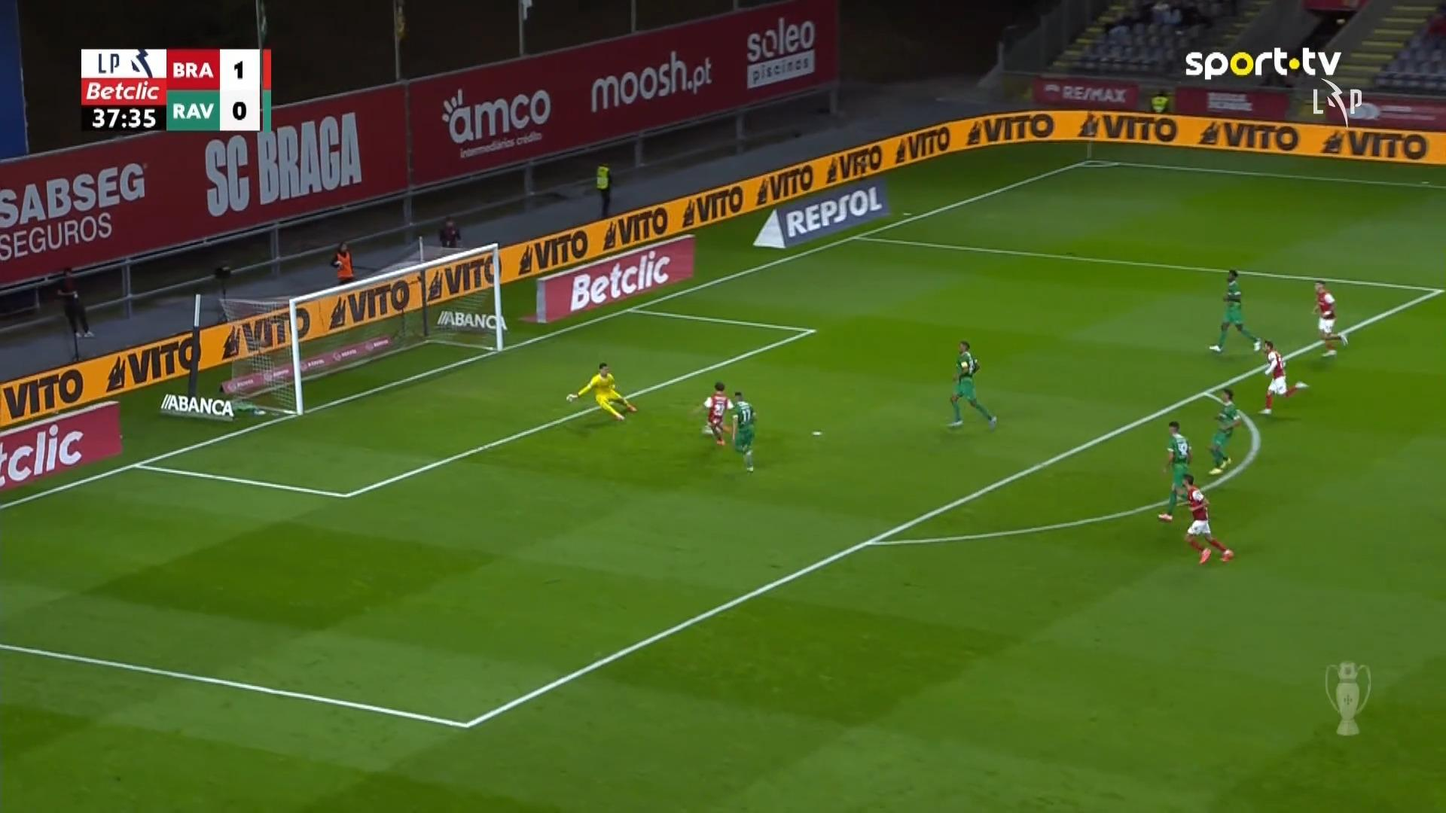ball: (702, 397, 711, 407)
player: (1172, 473, 1234, 565), (1208, 268, 1261, 353), (947, 340, 997, 430), (565, 361, 638, 422), (1157, 419, 1192, 521), (1255, 339, 1297, 415), (1207, 387, 1242, 475), (1311, 280, 1348, 357), (729, 390, 758, 472), (701, 380, 732, 446)
